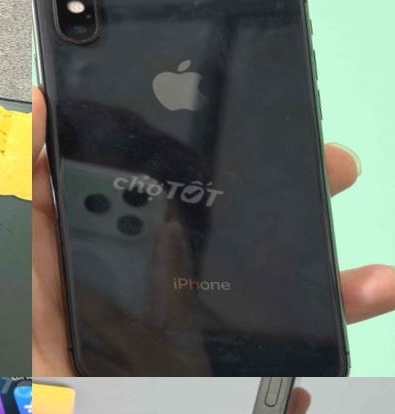scratch: (81, 271, 154, 337), (228, 318, 293, 366)
